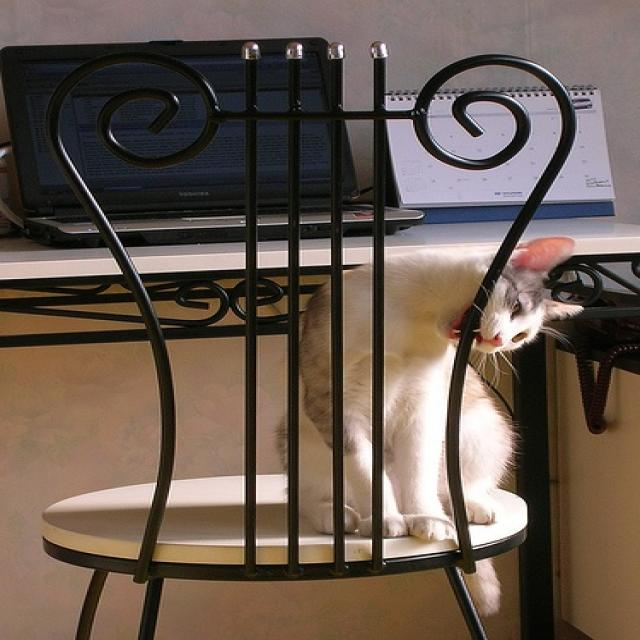cat: (272, 232, 562, 618)
chair: (41, 34, 579, 638)
